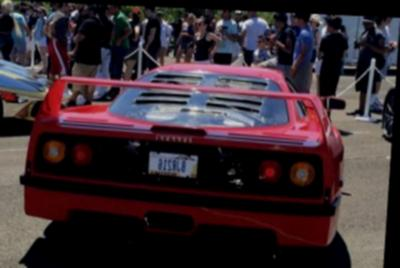License_Plate: (148, 153, 200, 177)
